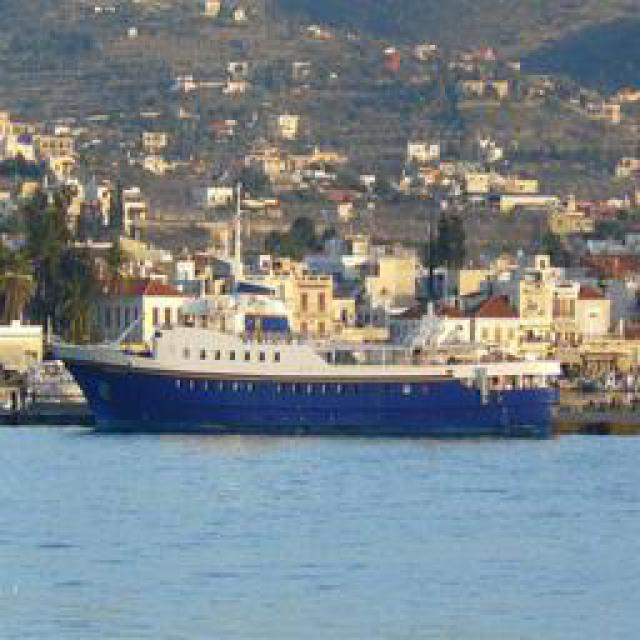Ship: (52, 279, 555, 439)
